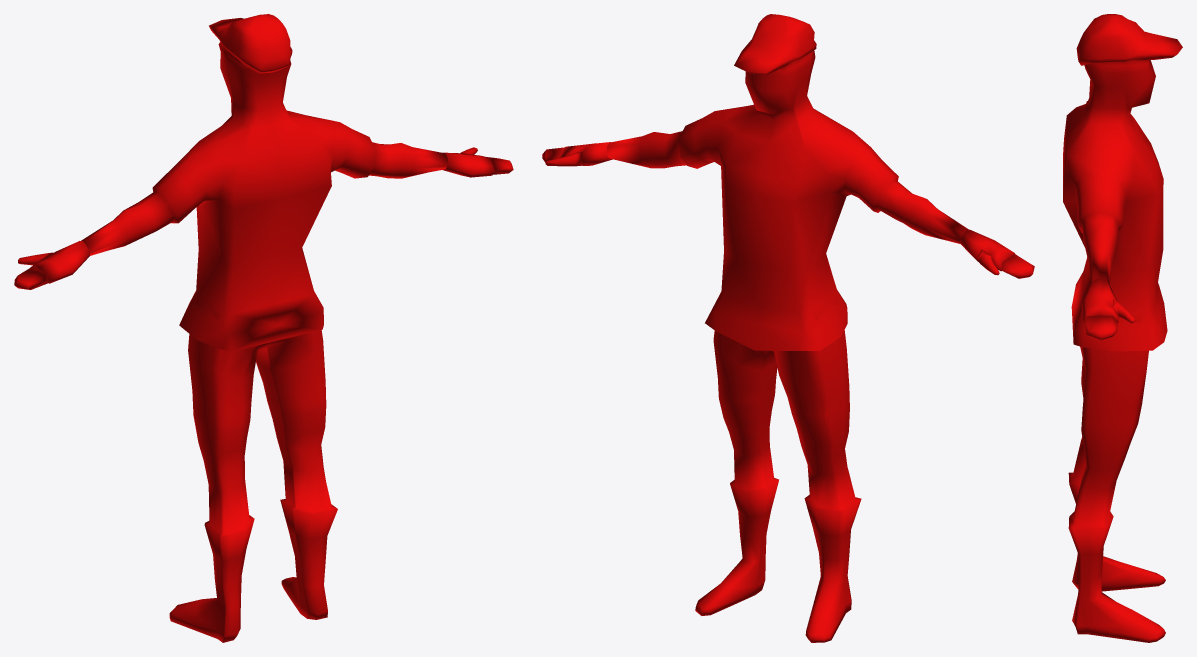
Rendered from Enemy.fbx.
3 renders of one model, left to right at view 1: azimuth 30°, elevation 25°; view 2: azimuth 150°, elevation 25°; view 3: azimuth 270°, elevation 25°, orthographic.
Visible parts, largest first — view 1: Cube; view 2: Cube; view 3: Cube.
Part boxes in pixels (x1=…): Cube: x1=14, y1=14, x2=513, y2=642; Cube: x1=542, y1=14, x2=1034, y2=642; Cube: x1=1063, y1=14, x2=1182, y2=642.
Bounding box in the file's own units: 2.89 × 3.35 × 0.6141.
